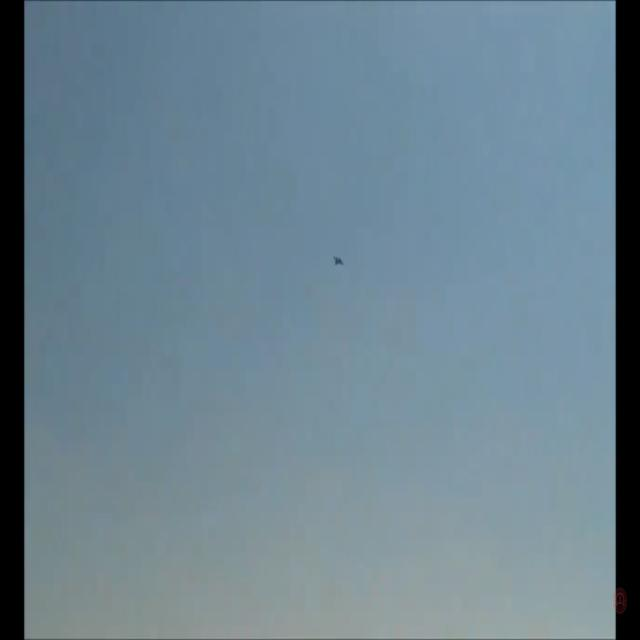iha: (336, 258, 340, 263)
